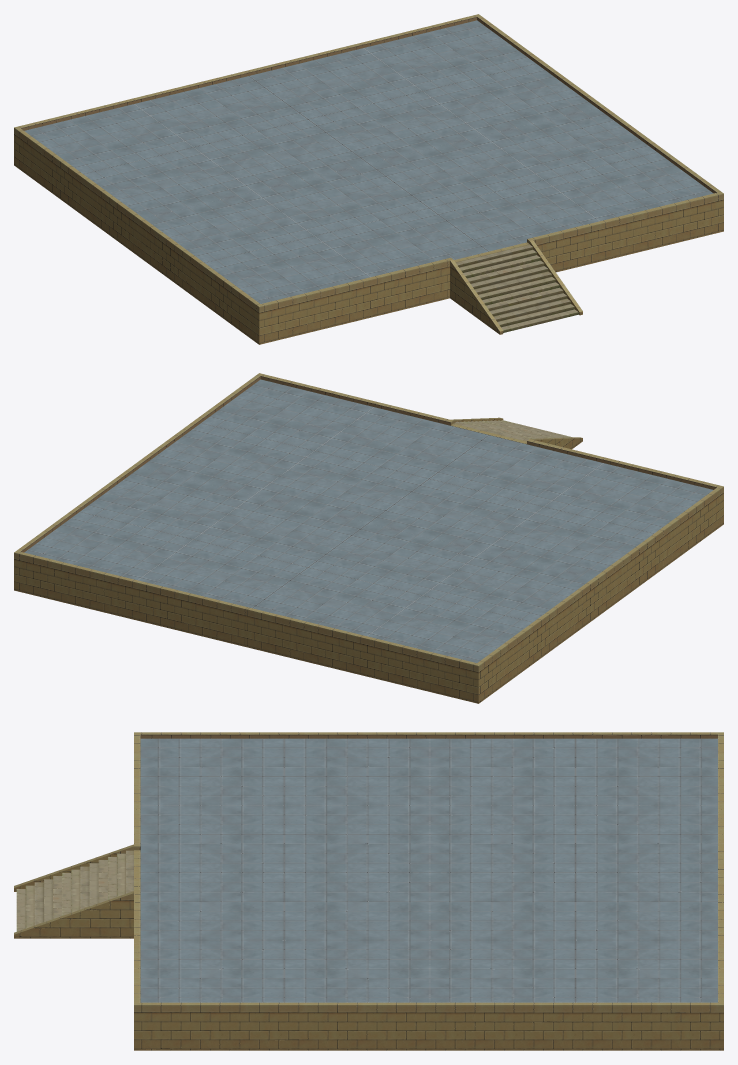
File: Bleach_LingYuan_GaoTai006.FBX
3 renders of one model, top to bottom at view 1: azimuth 30°, elevation 25°; view 2: azimuth 150°, elevation 25°; view 3: azimuth 270°, elevation 25°, orthographic. The views are drawn at different scales.
Visible parts, largest first — view 1: Bleach_LingYuan_GaoTai006; view 2: Bleach_LingYuan_GaoTai006; view 3: Bleach_LingYuan_GaoTai006.
Boxes of the visible parts, x1,y1,x2,y2 form: Bleach_LingYuan_GaoTai006: (14, 14, 723, 344); Bleach_LingYuan_GaoTai006: (14, 373, 723, 703); Bleach_LingYuan_GaoTai006: (14, 732, 723, 1050).
Size of the model in its own units: 31.33 by 2.44 by 34.47.
